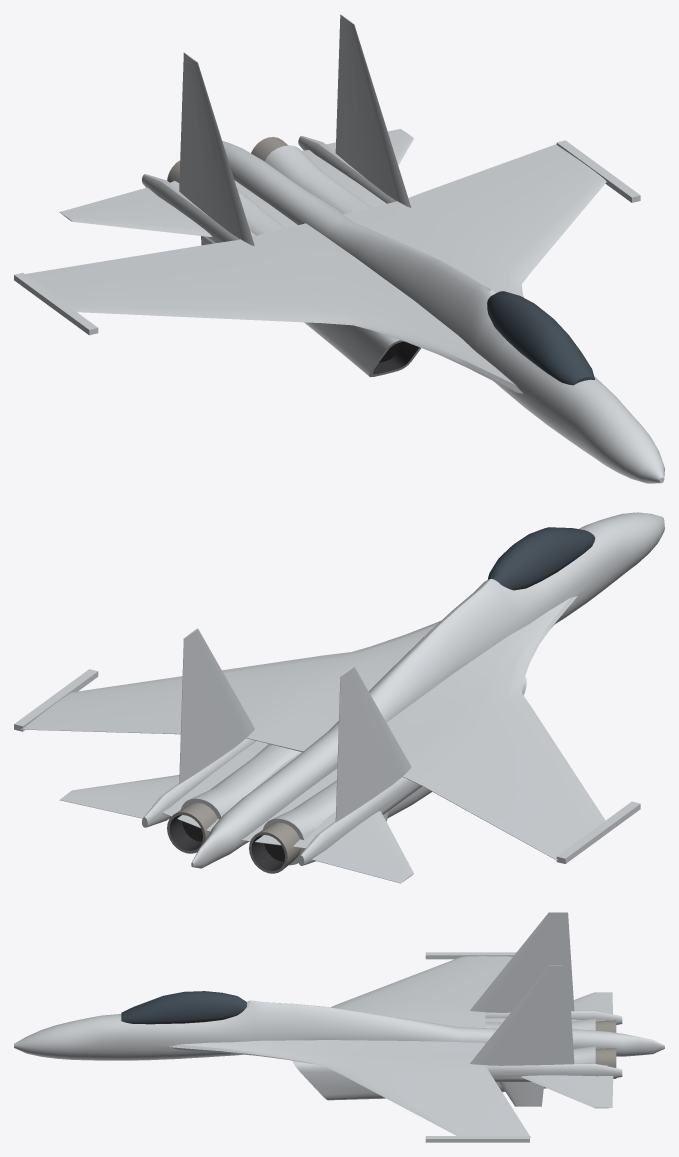
3 renders of one model, top to bottom at view 1: azimuth 30°, elevation 25°; view 2: azimuth 150°, elevation 25°; view 3: azimuth 270°, elevation 25°, orthographic. The views are drawn at different scales.
Parts seen in each view (by area): view 1: Airframe; view 2: Airframe; view 3: Airframe.
Part boxes in pixels (left/top/right/bottom): Airframe: left=14, top=14, right=664, bottom=483; Airframe: left=14, top=512, right=664, bottom=883; Airframe: left=14, top=912, right=664, bottom=1142.
Size of the model in its own units: 14.8 by 5.22 by 21.83.
